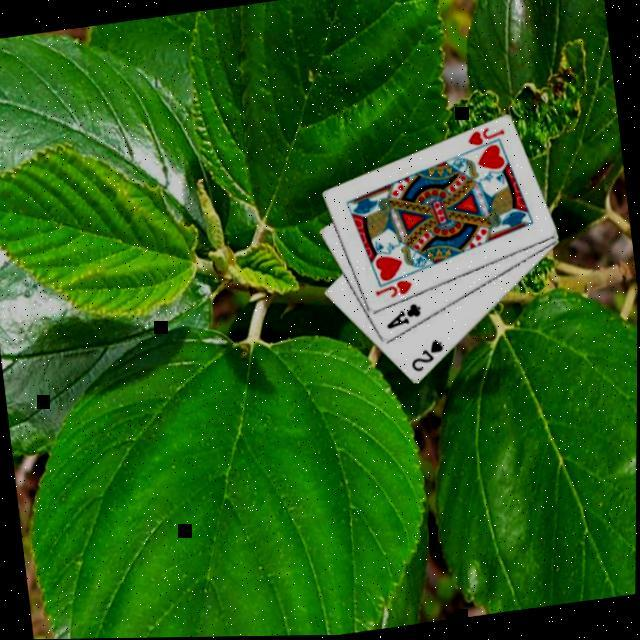2S: (404, 336, 446, 374)
AC: (379, 299, 422, 332)
JH: (461, 122, 505, 150), (370, 276, 414, 302)
